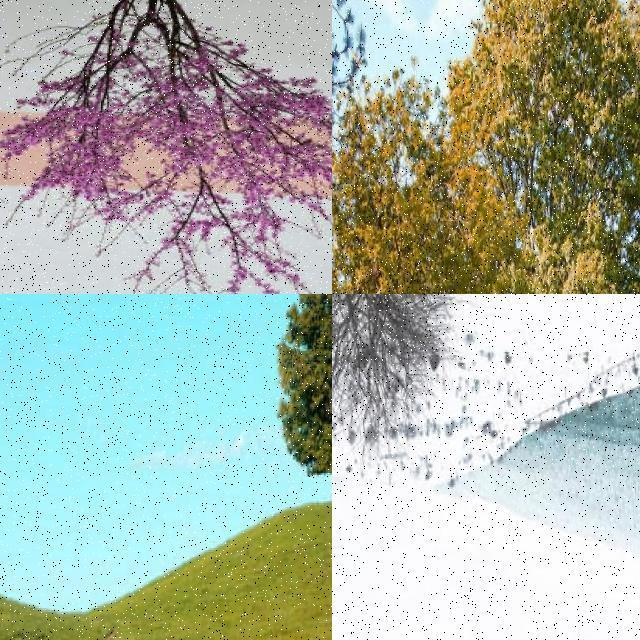tree: (0, 0, 332, 294), (450, 0, 640, 294), (332, 62, 448, 294), (332, 0, 392, 294), (332, 294, 454, 434), (264, 294, 332, 510)
